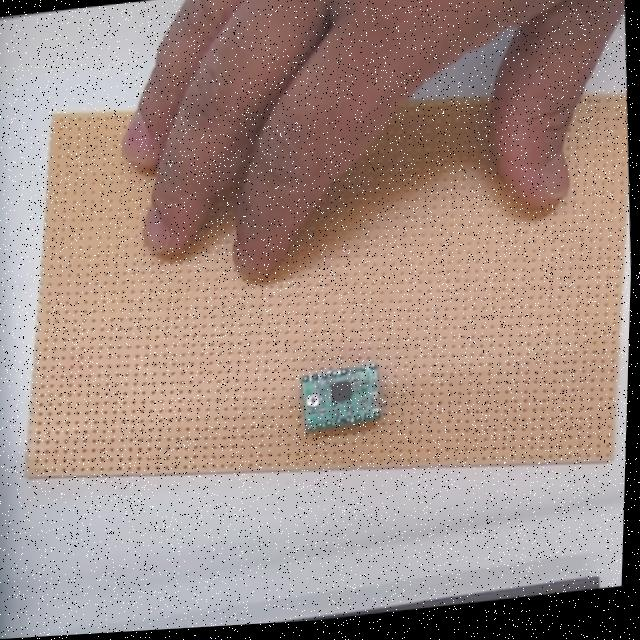Chip: (292, 360, 391, 433)
